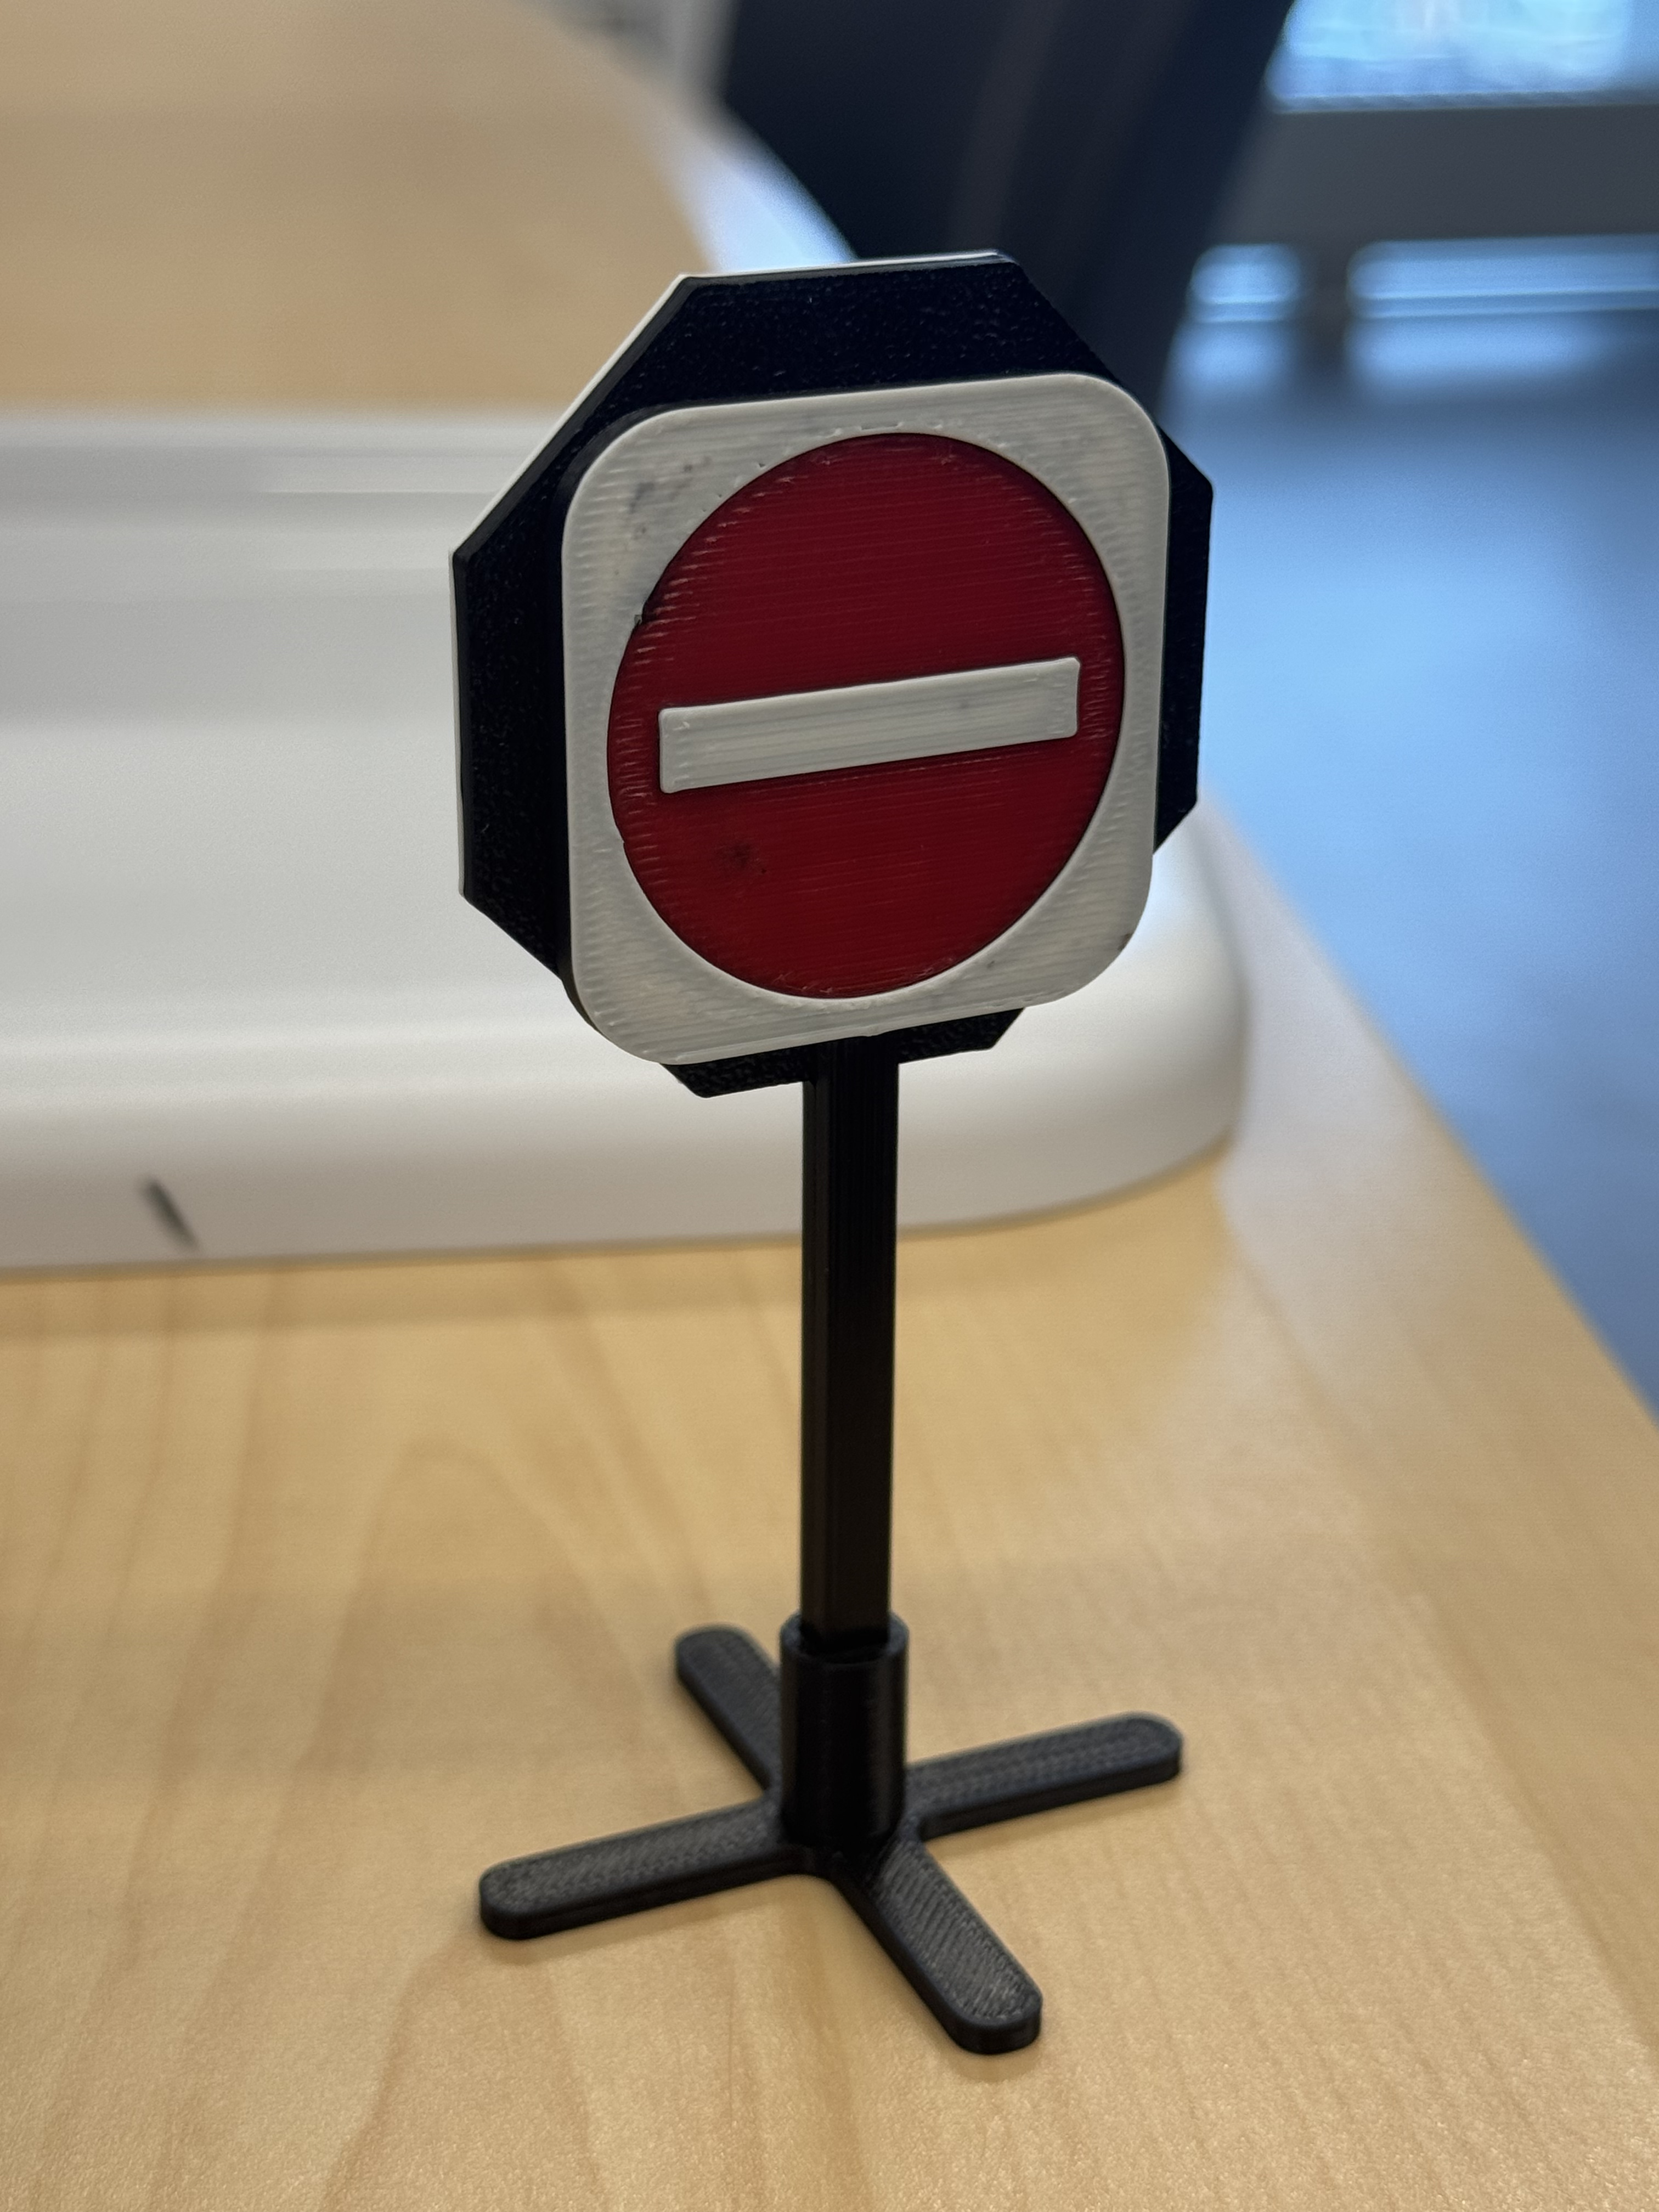sign_noentry: (439, 247, 1227, 2057)
